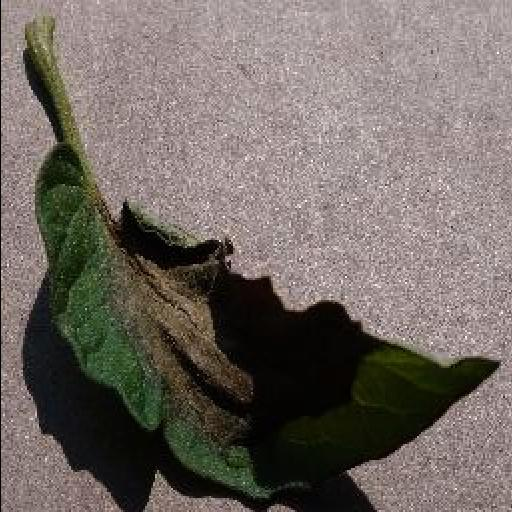disease_tomato: (34, 136, 502, 502)
